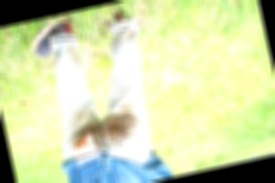earth: (92, 114, 137, 143)
